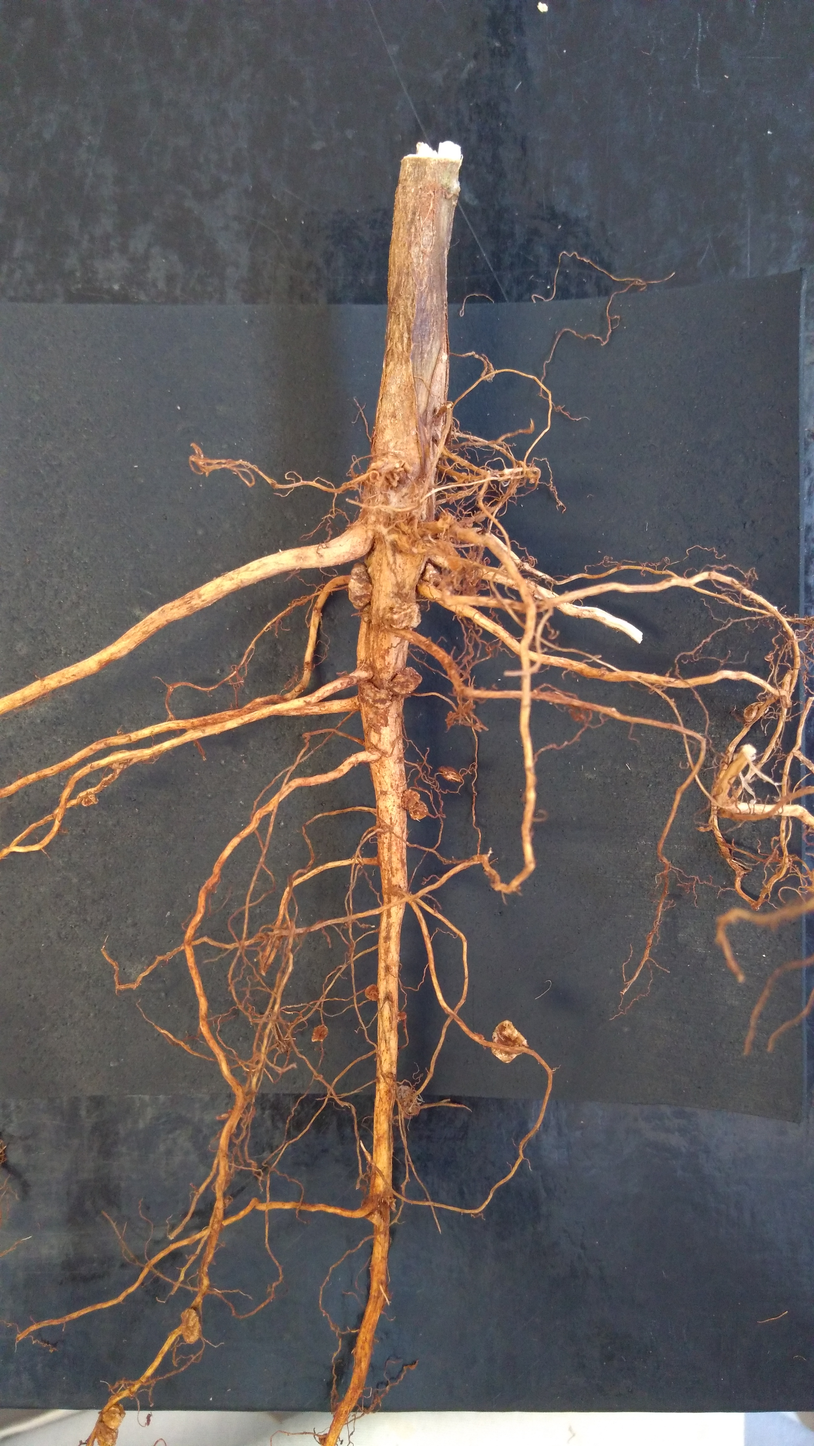nodule: (488, 1015, 532, 1069), (344, 560, 381, 612), (386, 661, 427, 701), (382, 598, 424, 635), (177, 1305, 205, 1346), (434, 761, 467, 789), (396, 1081, 420, 1119), (306, 1020, 335, 1051), (419, 558, 447, 589), (741, 698, 774, 724), (103, 1394, 126, 1429), (406, 796, 433, 824), (384, 462, 409, 489), (96, 1419, 119, 1446), (399, 788, 424, 812), (106, 749, 132, 769), (434, 513, 457, 534), (452, 563, 468, 591), (364, 982, 382, 1003), (364, 468, 382, 487), (467, 564, 482, 586), (81, 793, 99, 807), (472, 509, 486, 524)
